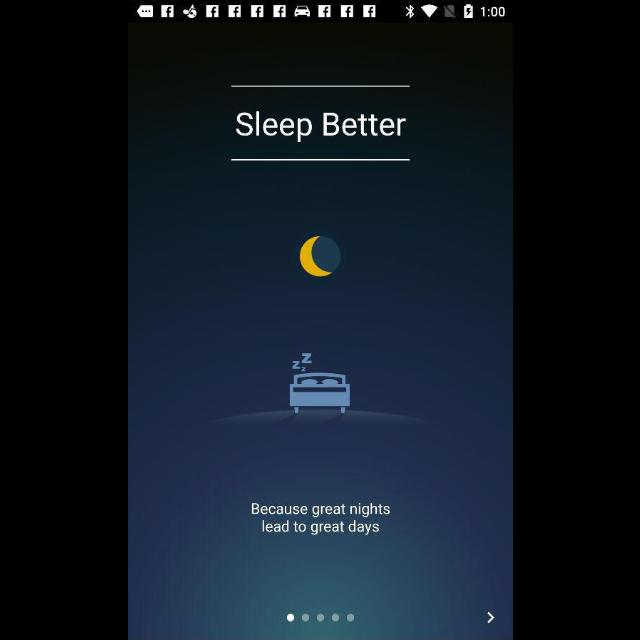backgroundimage: (128, 25, 512, 639)
icon: (485, 611, 495, 625)
pageindicator: (286, 613, 354, 623)
text: (236, 111, 407, 143), (250, 502, 390, 536)
uppertaskbar: (128, 1, 512, 23)
